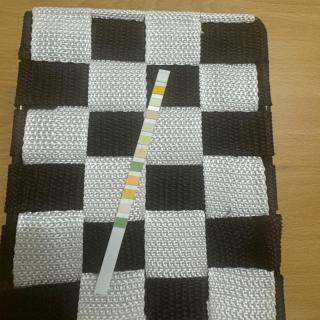mark: (119, 202, 129, 213), (131, 162, 142, 172), (157, 72, 168, 82), (114, 219, 126, 228), (128, 175, 138, 185), (136, 148, 146, 158), (140, 135, 150, 145), (146, 111, 158, 119), (124, 189, 134, 198), (143, 122, 154, 130), (150, 98, 160, 106), (154, 86, 164, 94)
